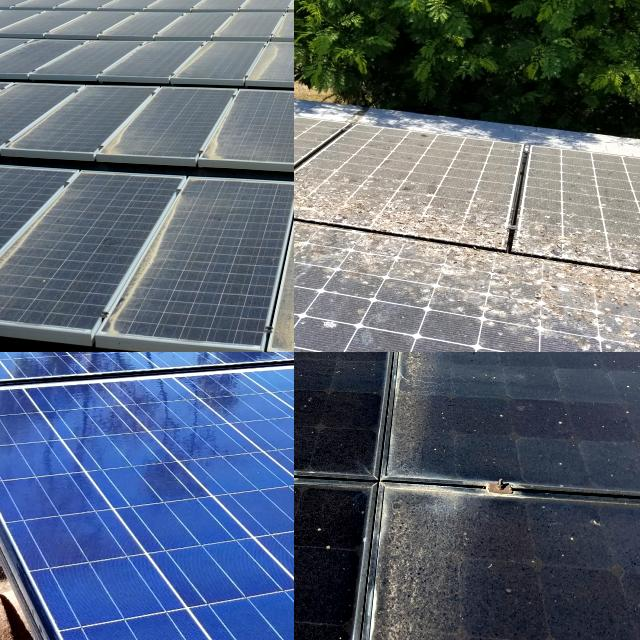bird: (546, 266, 632, 324), (294, 180, 394, 218), (334, 237, 410, 285), (449, 260, 524, 306), (407, 206, 507, 238), (524, 214, 596, 254), (294, 226, 343, 274), (294, 148, 343, 195), (299, 304, 359, 342), (605, 225, 640, 264), (294, 143, 327, 180), (555, 331, 603, 352), (294, 285, 314, 310)
crack: (0, 459, 156, 585), (17, 563, 257, 640), (164, 440, 294, 564), (99, 392, 262, 483), (189, 558, 294, 640), (0, 395, 88, 492), (14, 352, 158, 394), (92, 352, 193, 393), (0, 352, 61, 398), (229, 352, 294, 378)
dust: (388, 493, 640, 640), (418, 352, 640, 474), (294, 494, 443, 640), (127, 174, 225, 328), (294, 352, 448, 447), (104, 0, 195, 155), (214, 0, 294, 163), (271, 182, 294, 352)
